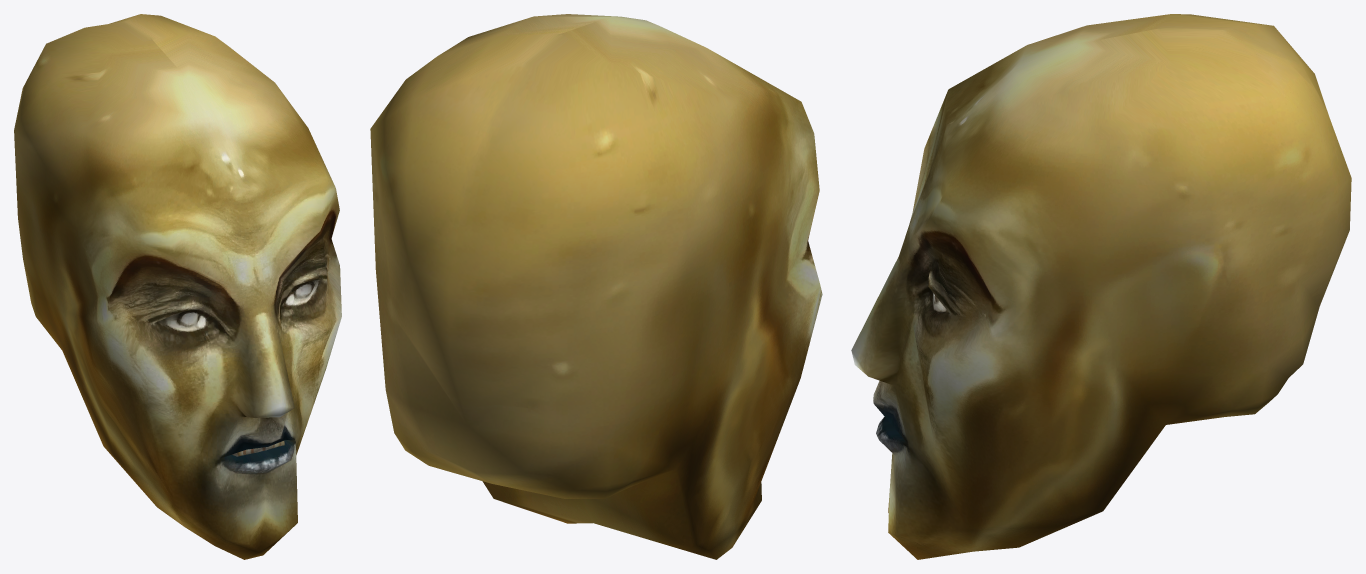
Rendered from b_v_high elf_m_head_01.glb.
3 renders of one model, left to right at view 1: azimuth 30°, elevation 25°; view 2: azimuth 150°, elevation 25°; view 3: azimuth 270°, elevation 25°, orthographic. The views are drawn at different scales.
Visible parts, largest first — view 1: Tri B_V_High Elf_M_Head_01; view 2: Tri B_V_High Elf_M_Head_01; view 3: Tri B_V_High Elf_M_Head_01.
Part boxes in pixels (<box>): Tri B_V_High Elf_M_Head_01: <box>14,14,341,559</box>; Tri B_V_High Elf_M_Head_01: <box>370,14,822,559</box>; Tri B_V_High Elf_M_Head_01: <box>851,14,1351,559</box>.
Bounding box in the file's own units: 0.0942 × 0.1639 × 0.1412.
1 material, 1 textured.
